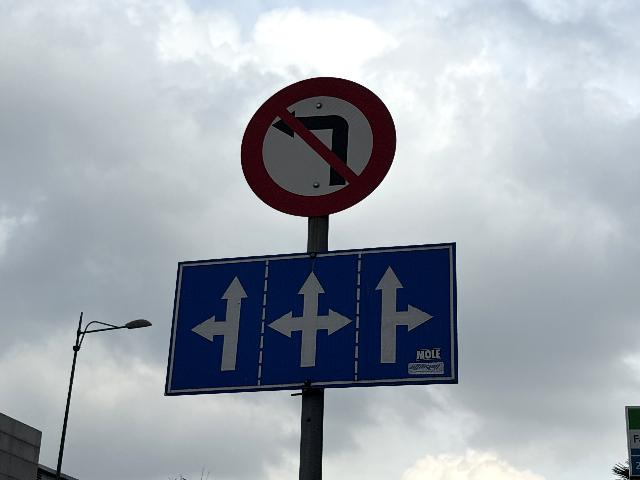cam-re-trai: (240, 75, 397, 217)
